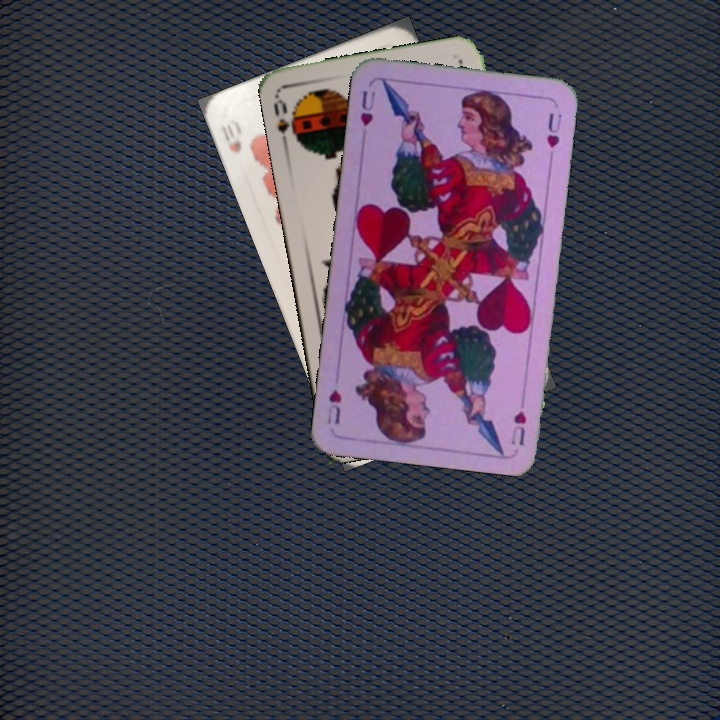H10: (224, 115, 245, 155)
HU: (507, 391, 529, 448), (356, 86, 378, 130)
SO: (269, 93, 303, 152)
